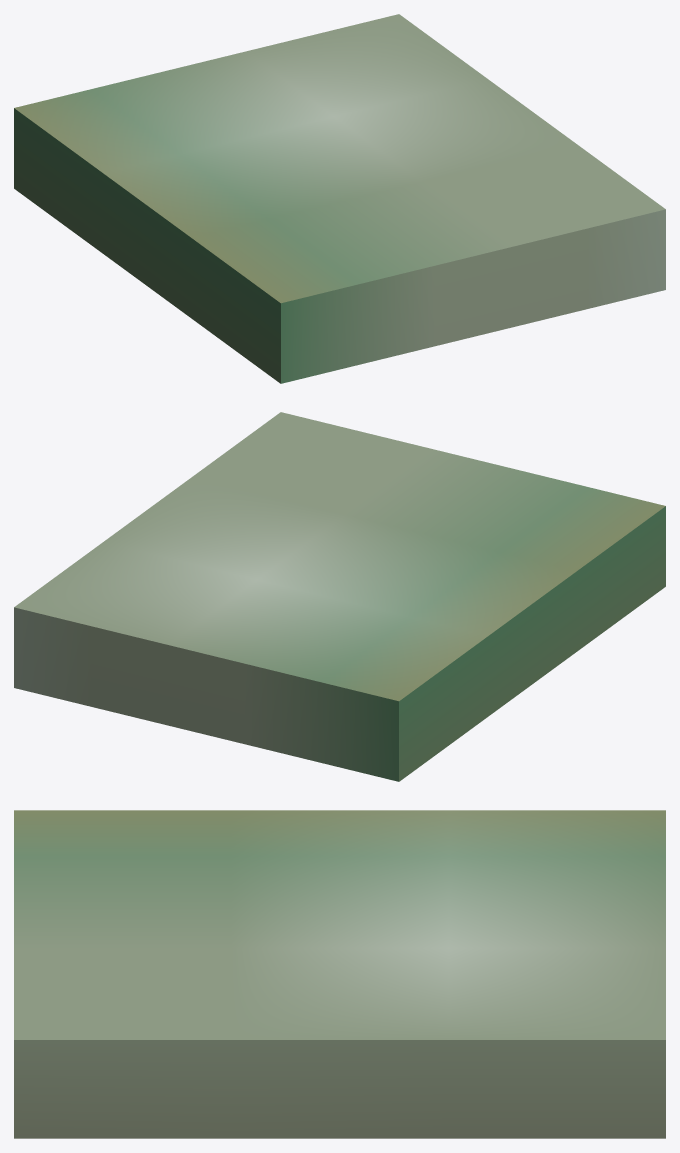
Rendered from NotebookLightGreen_01.fbx.
3 views of the same model, one above another, from view 1: azimuth 30°, elevation 25°; view 2: azimuth 150°, elevation 25°; view 3: azimuth 270°, elevation 25° (orthographic). The views are drawn at different scales.
Visible parts, largest first — view 1: NotebookLightGreen_01; view 2: NotebookLightGreen_01; view 3: NotebookLightGreen_01.
Part boxes in pixels (x1,y1,x2,y2): NotebookLightGreen_01: [14, 14, 665, 383]; NotebookLightGreen_01: [14, 412, 665, 781]; NotebookLightGreen_01: [14, 810, 665, 1138].
Size of the model in its own units: 25 by 30 by 5.
1 material, 1 textured.
